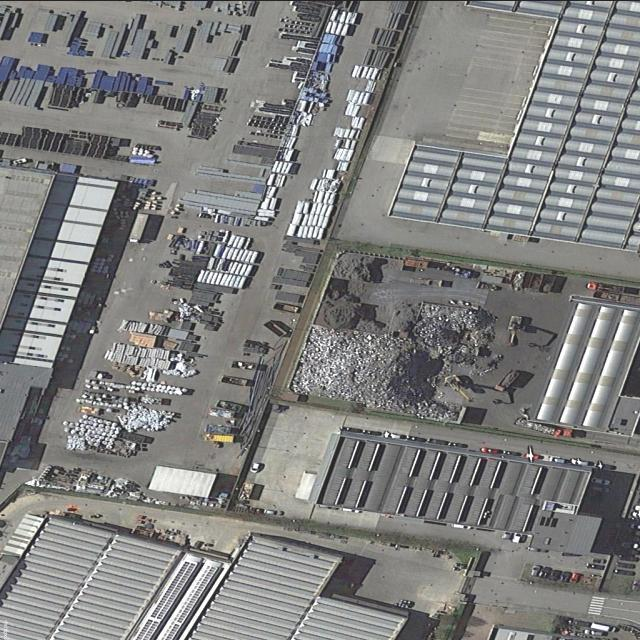dump_site: (289, 323, 479, 419), (402, 298, 500, 362), (116, 400, 179, 437)
